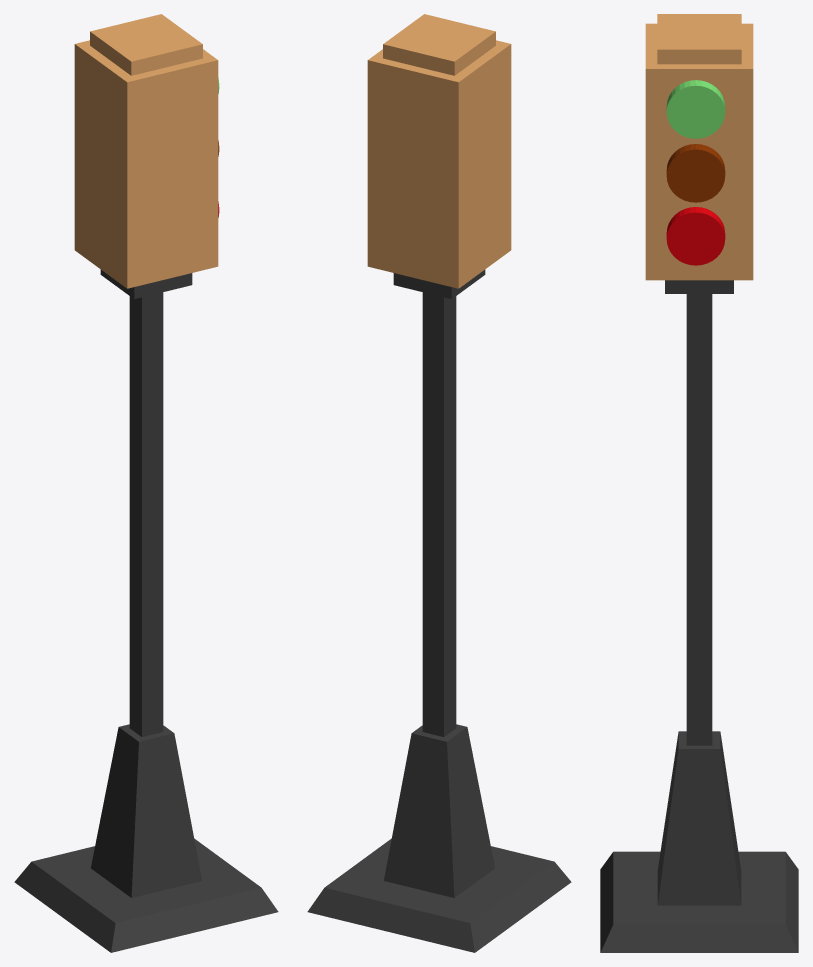
File: Semaforo.fbx
3 views of the same model, side by side, from view 1: azimuth 30°, elevation 25°; view 2: azimuth 150°, elevation 25°; view 3: azimuth 270°, elevation 25° (orthographic). The views are drawn at different scales.
Visible parts, largest first — view 1: Cube.004; view 2: Cube.004; view 3: Cube.004, Cylinder.007, Cylinder.008, Cylinder.009.
Boxes of the visible parts, x1,y1,x2,y2 form: Cube.004: (14, 14, 278, 952); Cube.004: (307, 14, 571, 952); Cube.004: (600, 14, 798, 952); Cylinder.007: (666, 207, 725, 265); Cylinder.008: (666, 144, 725, 202); Cylinder.009: (666, 80, 725, 138).
Bounding box in the file's own units: 117 × 572 × 117.
